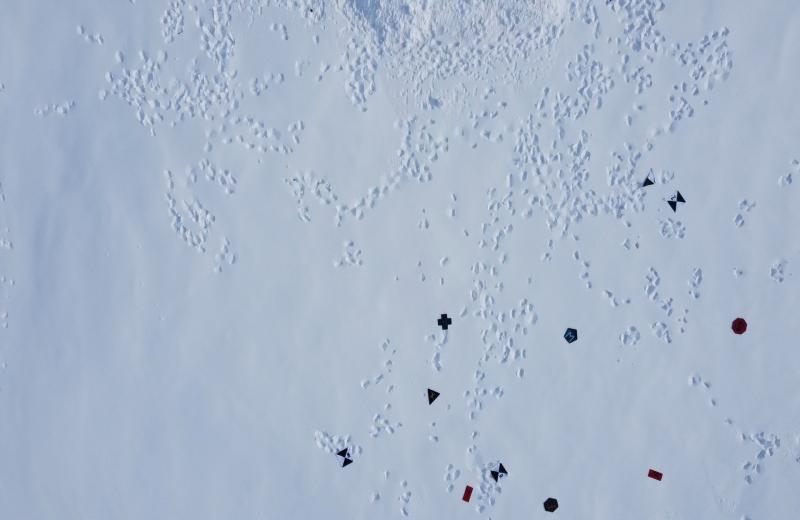Cross: (436, 312, 454, 332)
Hexagon: (542, 496, 560, 514)
Octagon: (730, 316, 748, 337)
Pentagon: (564, 327, 580, 346)
Rectangle: (461, 484, 475, 504), (646, 468, 664, 483)
Triangle: (424, 387, 440, 407)
